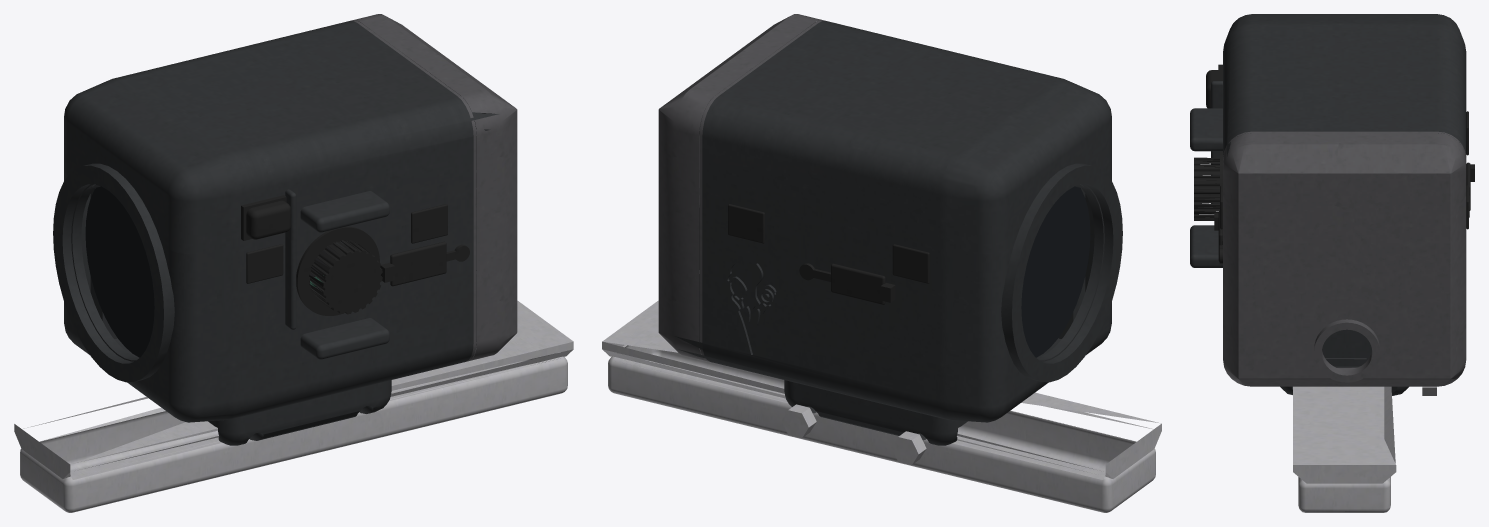
3 renders of one model, left to right at view 1: azimuth 30°, elevation 25°; view 2: azimuth 150°, elevation 25°; view 3: azimuth 270°, elevation 25°, orthographic. The views are drawn at different scales.
Parts seen in each view (by area): view 1: upper_housing, lower_housing, mount_rail, radome, display_bezel, display_window, port_covers, control_knob; view 2: upper_housing, lower_housing, mount_rail, radome, display_bezel, display_window, port_covers; view 3: radome, upper_housing, mount_rail, lower_housing, control_knob, port_covers.
Part boxes in pixels (left/top/right/bottom): upper_housing: left=64, top=21, right=498, bottom=254; lower_housing: left=64, top=170, right=476, bottom=445; mount_rail: left=14, top=300, right=573, bottom=512; radome: left=350, top=14, right=517, bottom=361; display_bezel: left=53, top=163, right=174, bottom=382; display_window: left=85, top=186, right=154, bottom=357; port_covers: left=241, top=195, right=469, bottom=286; control_knob: left=296, top=226, right=382, bottom=315; upper_housing: left=699, top=21, right=1111, bottom=254; lower_housing: left=674, top=170, right=1111, bottom=445; mount_rail: left=602, top=300, right=1161, bottom=512; radome: left=658, top=14, right=825, bottom=361; display_bezel: left=1001, top=163, right=1122, bottom=382; display_window: left=1021, top=186, right=1090, bottom=357; port_covers: left=728, top=204, right=929, bottom=304; radome: left=1223, top=131, right=1466, bottom=386; upper_housing: left=1190, top=14, right=1466, bottom=162; mount_rail: left=1293, top=386, right=1436, bottom=512; lower_housing: left=1190, top=133, right=1459, bottom=395; control_knob: left=1194, top=151, right=1222, bottom=220; port_covers: left=1206, top=64, right=1474, bottom=263.
Bounding box in the file's own units: 0.11 × 0.073 × 0.0586.
18 materials, 7 textured.
